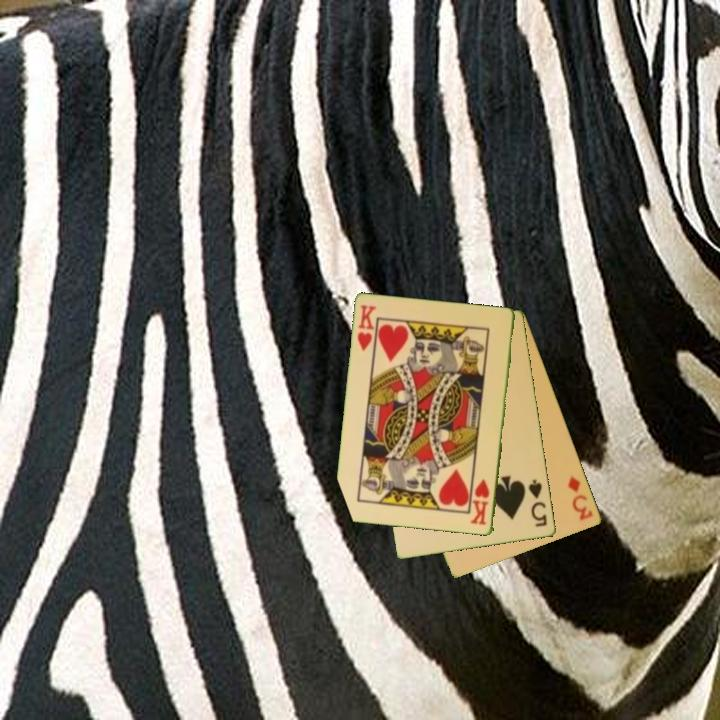3d: (564, 473, 596, 523)
5s: (525, 476, 550, 530)
Kh: (468, 476, 493, 528), (354, 302, 379, 354)
